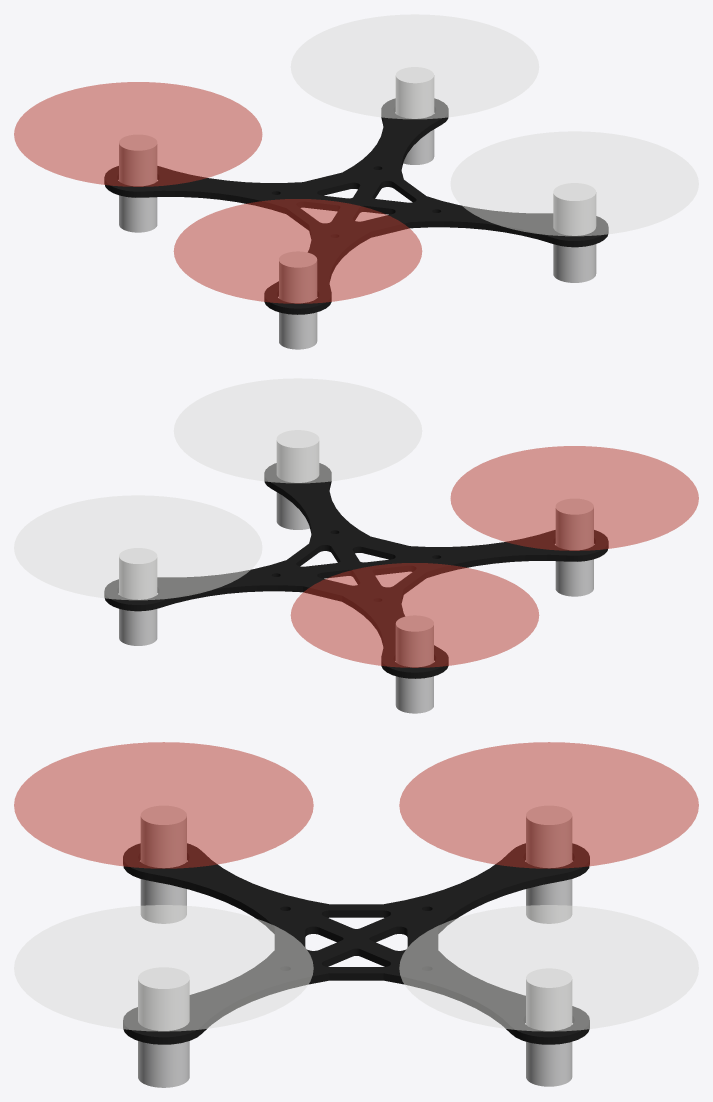
Rendered from flix0.dae.
3 renders of one model, top to bottom at view 1: azimuth 30°, elevation 25°; view 2: azimuth 150°, elevation 25°; view 3: azimuth 270°, elevation 25°, orthographic. The views are drawn at different scales.
Visible parts, largest first — view 1: Body8, Body6, Body9, Body7, Frame, Body5, Body2, Body3, Body4; view 2: Body6, Body8, Body7, Body9, Frame, Body3, Body2, Body4, Body5; view 3: Frame, Body6, Body8, Body7, Body9, Body5, Body4, Body2, Body3.
Boxes of the visible parts, x1,y1,x2,y2 form: Body8: (290,14,538,119); Body6: (450,131,698,236); Body9: (173,199,422,303); Body7: (14,82,262,186); Frame: (104,98,608,314); Body5: (553,183,596,282); Body2: (279,251,317,349); Body3: (119,134,157,232); Body4: (395,67,434,164); Body6: (174,378,422,483); Body8: (14,495,262,600); Body7: (290,563,539,667); Body9: (450,446,698,550); Frame: (104,463,608,678); Body3: (395,615,433,713); Body2: (555,498,593,596); Body4: (119,548,157,645); Body5: (276,430,319,529); Frame: (123,843,589,1044); Body6: (14,905,313,1031); Body8: (399,905,698,1031); Body7: (399,742,698,868); Body9: (14,742,313,868); Body5: (138,967,189,1087); Body4: (526,968,572,1086); Body2: (140,805,186,923); Body3: (526,805,572,923).
Bounding box in the file's own units: 0.1257 × 0.1257 × 0.022.
